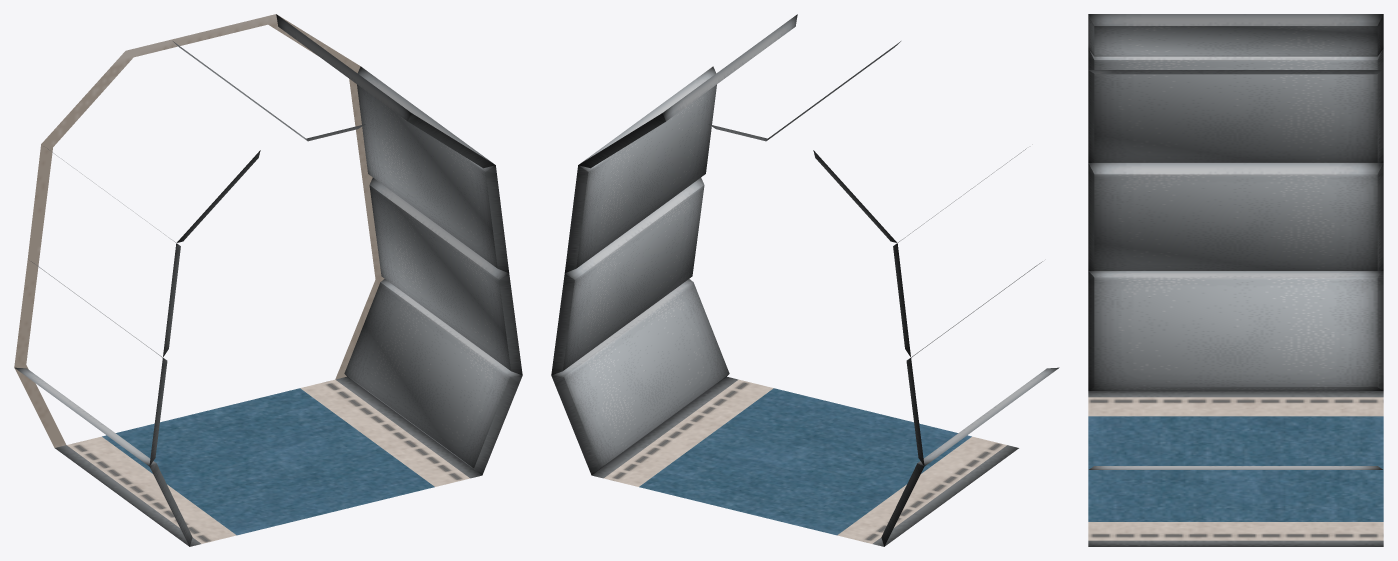
Rendered from galaxyCorridorMiddle.glb.
3 renders of one model, left to right at view 1: azimuth 30°, elevation 25°; view 2: azimuth 150°, elevation 25°; view 3: azimuth 270°, elevation 25°, orthographic. The views are drawn at different scales.
Visible parts, largest first — view 1: CorridorMiddle; view 2: CorridorMiddle; view 3: CorridorMiddle.
Boxes of the visible parts, box(x1,y1,x2,y2) form: CorridorMiddle: box(14, 14, 522, 546); CorridorMiddle: box(551, 14, 1059, 546); CorridorMiddle: box(1088, 14, 1383, 546).
Bounding box in the file's own units: 2.96 × 2.88 × 1.86.
Materials: 1 (1 with a texture image).
